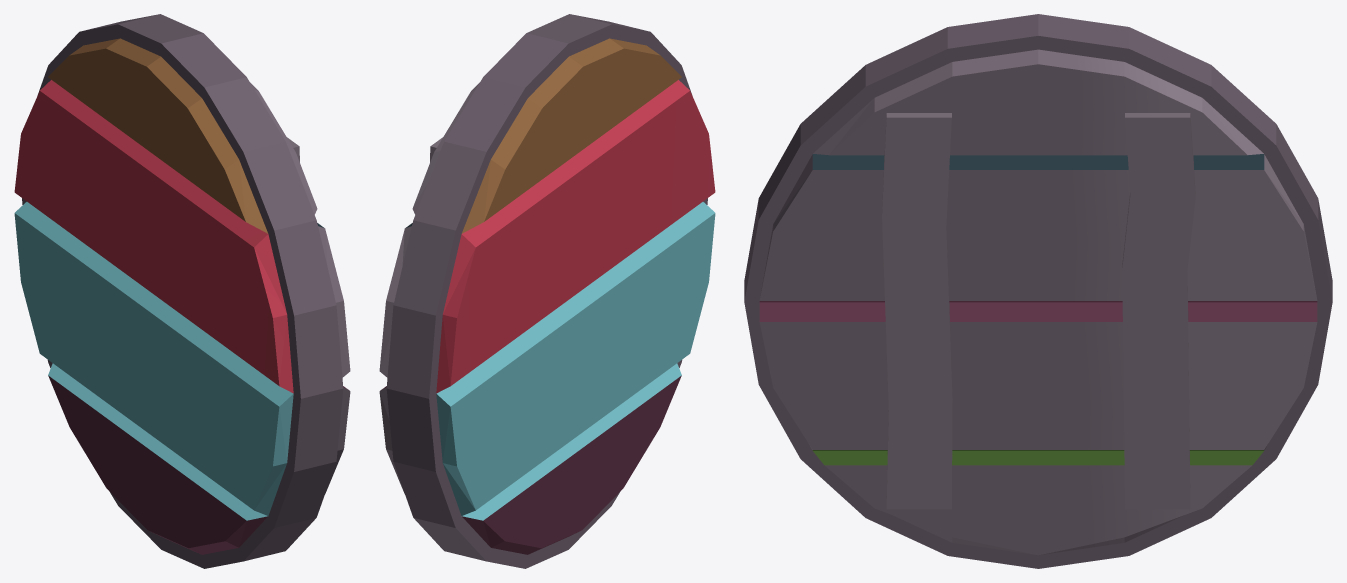
The model's file is SM_Prop_Cart_Wheel_03.fbx.
The picture shows the model from 3 angles, left to right: view 1: azimuth 30°, elevation 25°; view 2: azimuth 150°, elevation 25°; view 3: azimuth 270°, elevation 25°; orthographic projection. The views are drawn at different scales.
Parts seen in each view (by area): view 1: SM_Prop_Cart_Wheel_03; view 2: SM_Prop_Cart_Wheel_03; view 3: SM_Prop_Cart_Wheel_03.
Part boxes in pixels (<box>): SM_Prop_Cart_Wheel_03: <box>14,14,350,568</box>; SM_Prop_Cart_Wheel_03: <box>379,14,715,568</box>; SM_Prop_Cart_Wheel_03: <box>744,14,1332,568</box>.
Bounding box in the file's own units: 0.1595 × 0.957 × 0.957.
1 material, 1 textured.
